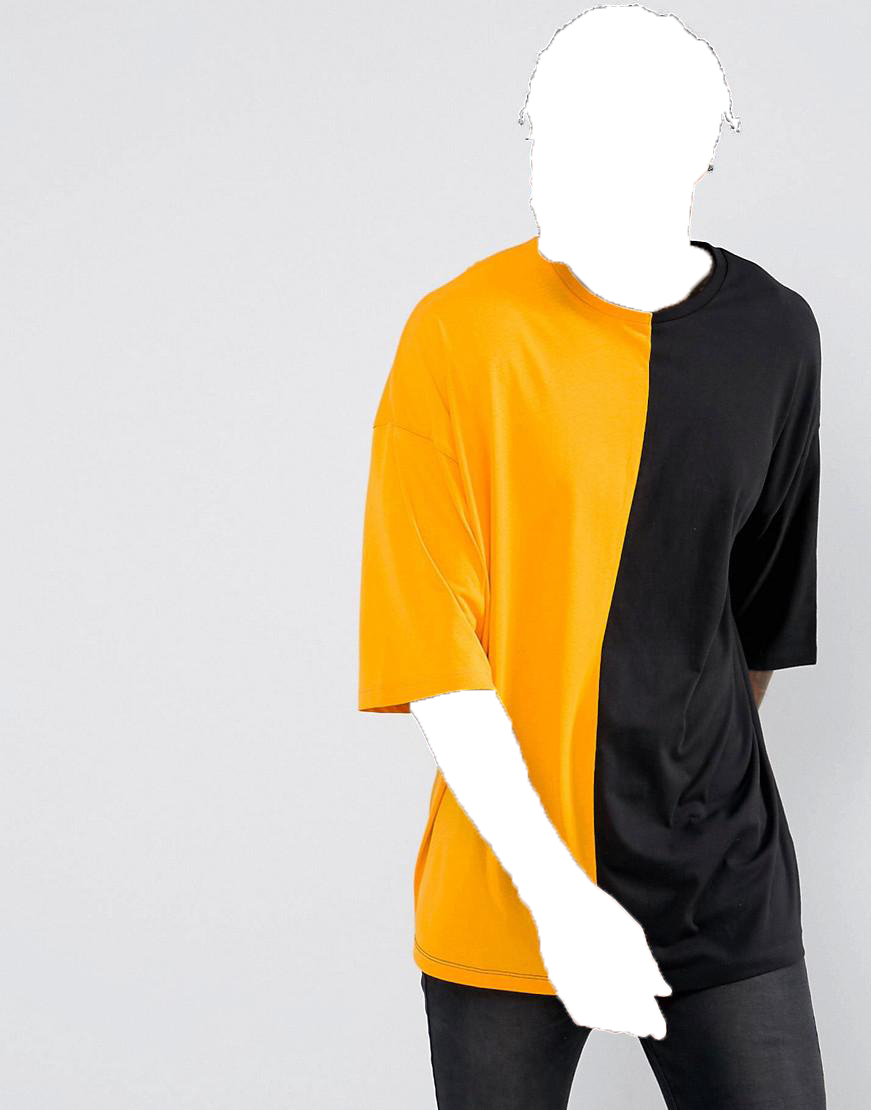teeshirt: (342, 232, 852, 1007)
